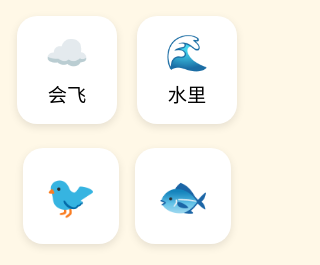
ClassifyGame › 点物品再点正确桶 → 物品归位
Click the button named "小鸟". click: [71, 196]
box: x1=23 y1=148 x2=119 y2=244
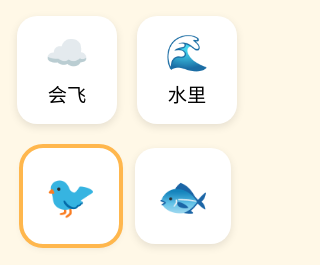
Click the button "☁️ 会飞". click: [67, 70]
box: x1=17 y1=16 x2=117 y2=124
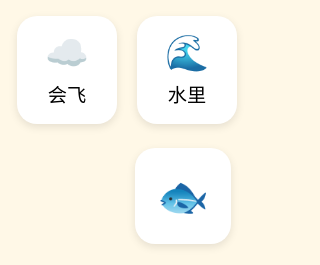
Now the button "小鸟" is gone
